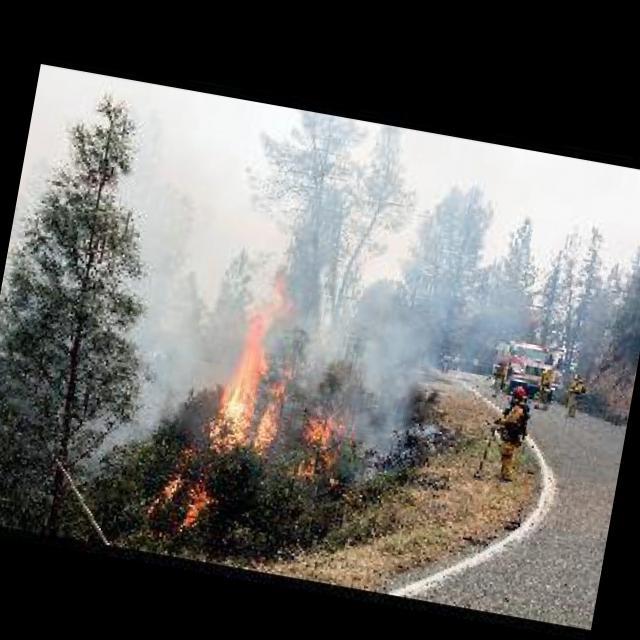fire: (147, 253, 383, 548)
